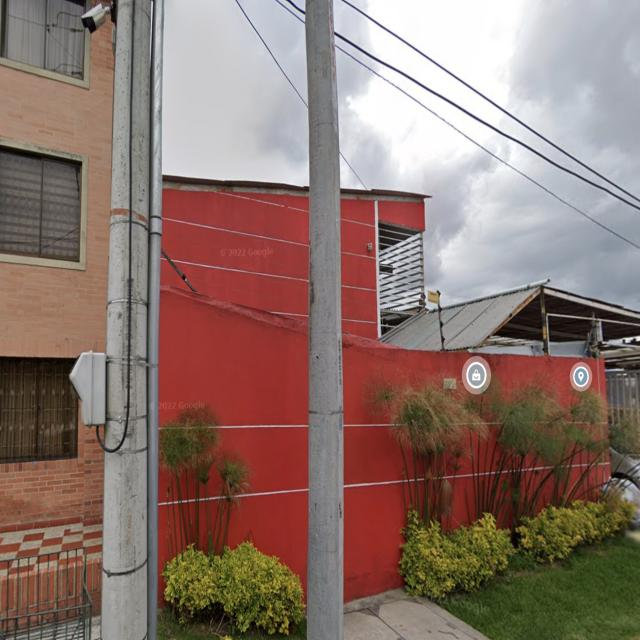Casa: (0, 0, 114, 559)
Poste: (101, 0, 151, 640), (305, 0, 344, 640)
